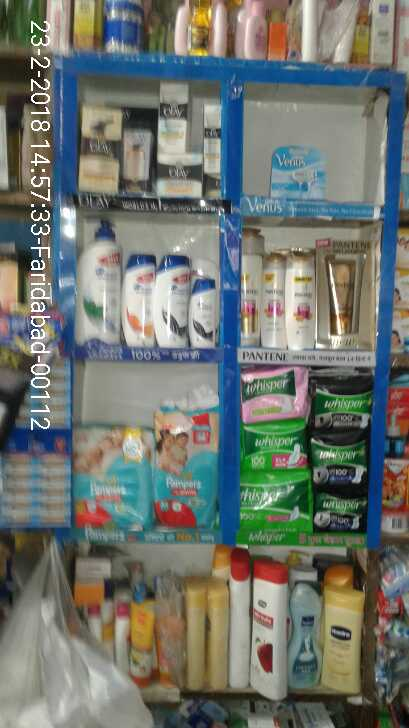venus: (270, 145, 323, 194)
